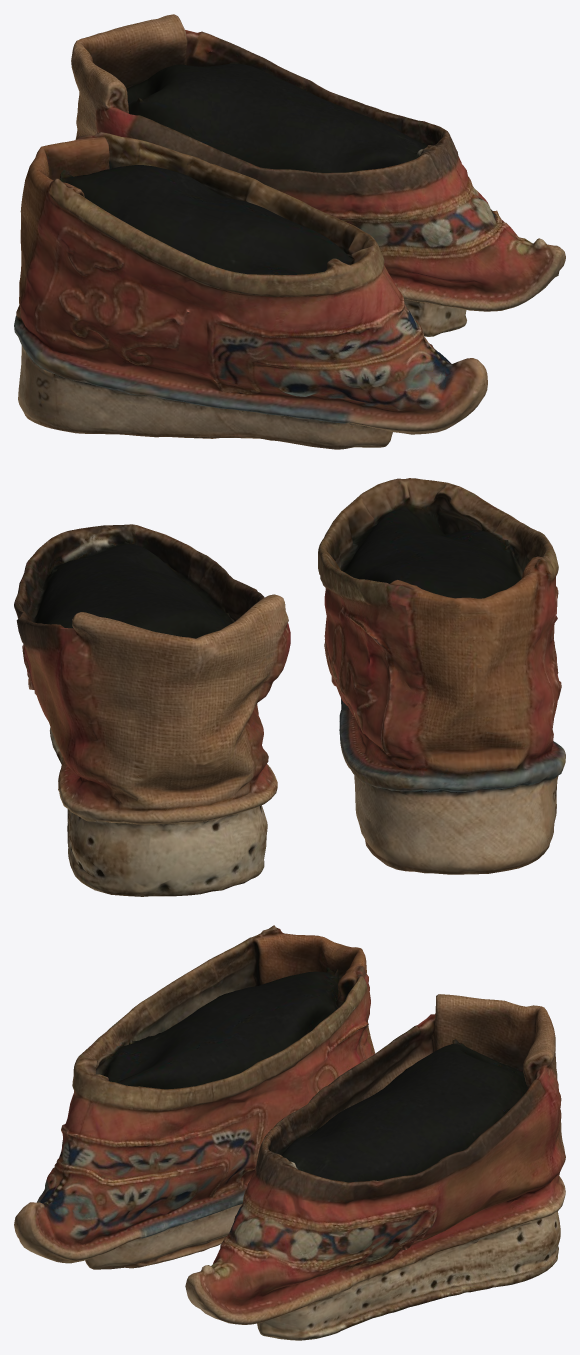
The model's file is Paar_Schuhe_Eth20S 1.glb.
The picture shows the model from 3 angles, top to bottom: view 1: azimuth 30°, elevation 25°; view 2: azimuth 150°, elevation 25°; view 3: azimuth 270°, elevation 25°; orthographic projection. The views are drawn at different scales.
Bounding box in the file's own units: 0.126 × 0.0626 × 0.1314.
Materials: 1 (1 with a texture image).
